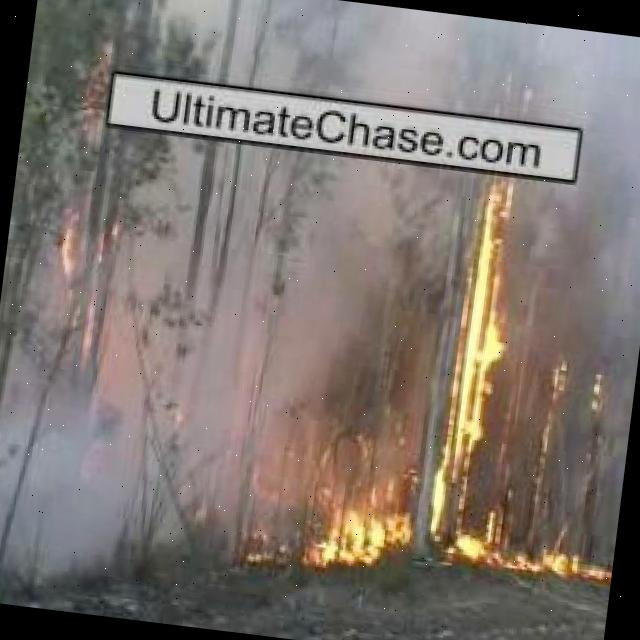fire: (434, 116, 544, 505), (286, 485, 617, 595), (48, 210, 91, 298)
